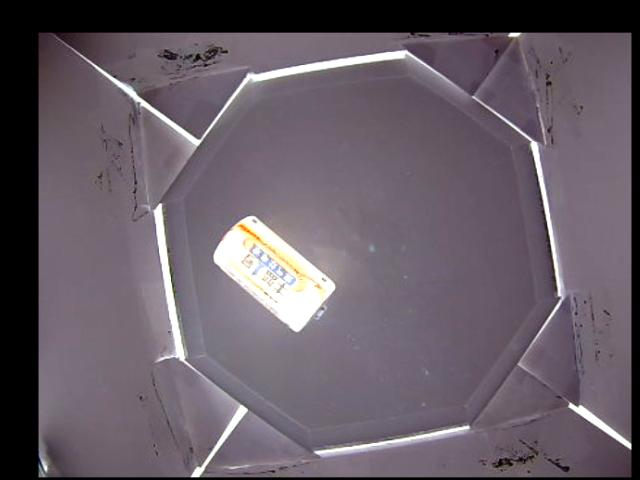Battery: (212, 213, 334, 332)
